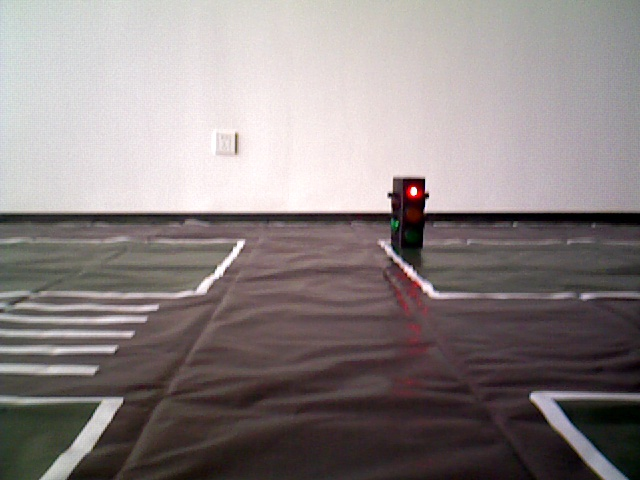red: (386, 179, 426, 253)
